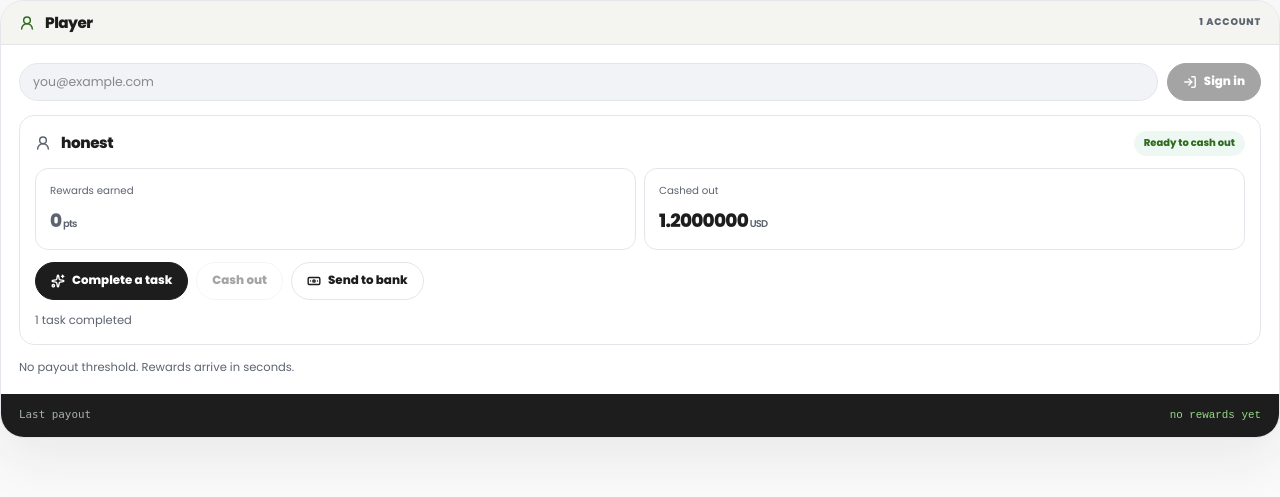
Test: player panel › reports the anchor reference when the payout provider has no hosted page
Expected: the text "honest" is shown, [61,132,113,155]
Click the button "Send to bank" at (357,281), box [291,262,424,300]
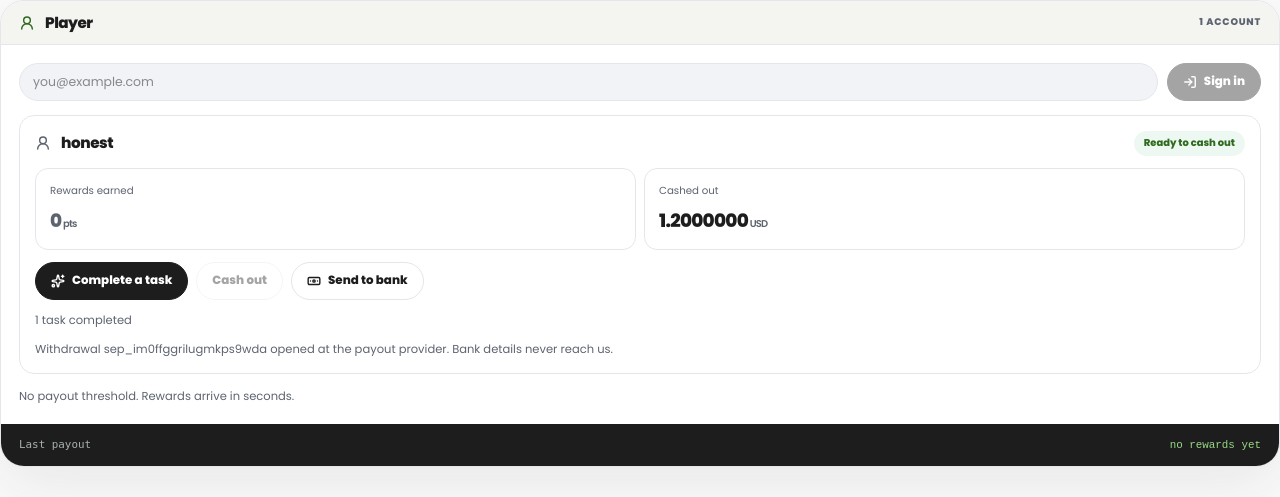
Now the text "sep_im0ffggrilugmkps9wda" is shown, box [35,341,613,357]
